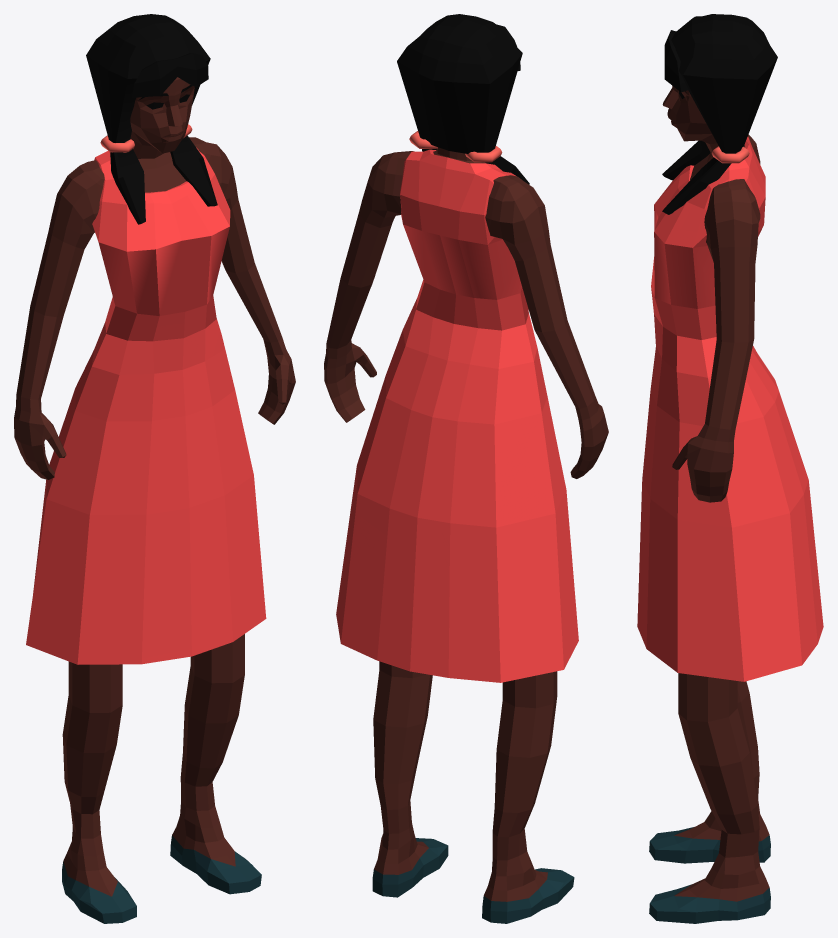
Rendered from Female_08.FBX.
3 renders of one model, left to right at view 1: azimuth 30°, elevation 25°; view 2: azimuth 150°, elevation 25°; view 3: azimuth 270°, elevation 25°, orthographic.
Visible parts, largest first — view 1: Female_08; view 2: Female_08; view 3: Female_08.
Part boxes in pixels (left/top/right/bottom): Female_08: left=14, top=14, right=295, bottom=923; Female_08: left=324, top=14, right=608, bottom=923; Female_08: left=637, top=14, right=823, bottom=923.
Size of the model in its own units: 0.5663 by 1.72 by 0.3369.
1 material, 1 textured.
